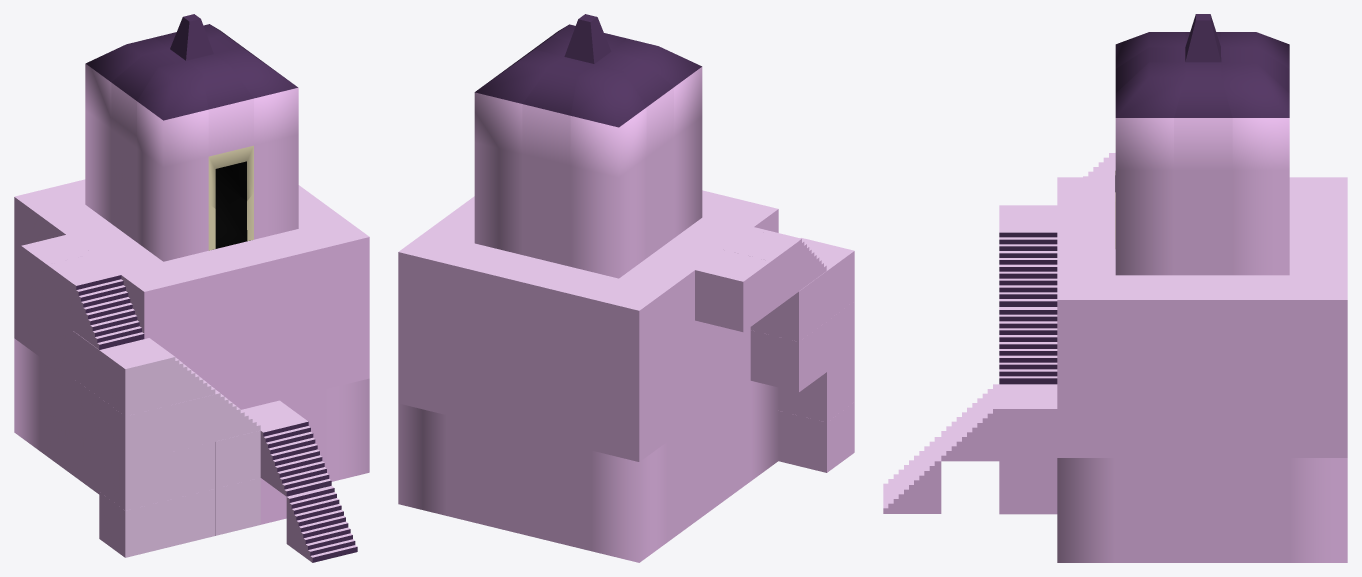
File: house breakable2.fbx
3 views of the same model, side by side, from view 1: azimuth 30°, elevation 25°; view 2: azimuth 150°, elevation 25°; view 3: azimuth 270°, elevation 25° (orthographic). The views are drawn at different scales.
Parts seen in each view (by area): view 1: Cube.004; view 2: Cube.004; view 3: Cube.004.
Part boxes in pixels (x1,y1,x2,y2): Cube.004: (14,14,369,562); Cube.004: (398,14,854,562); Cube.004: (883,14,1347,562).
Bounding box in the file's own units: 2400 × 3684 × 3200.
